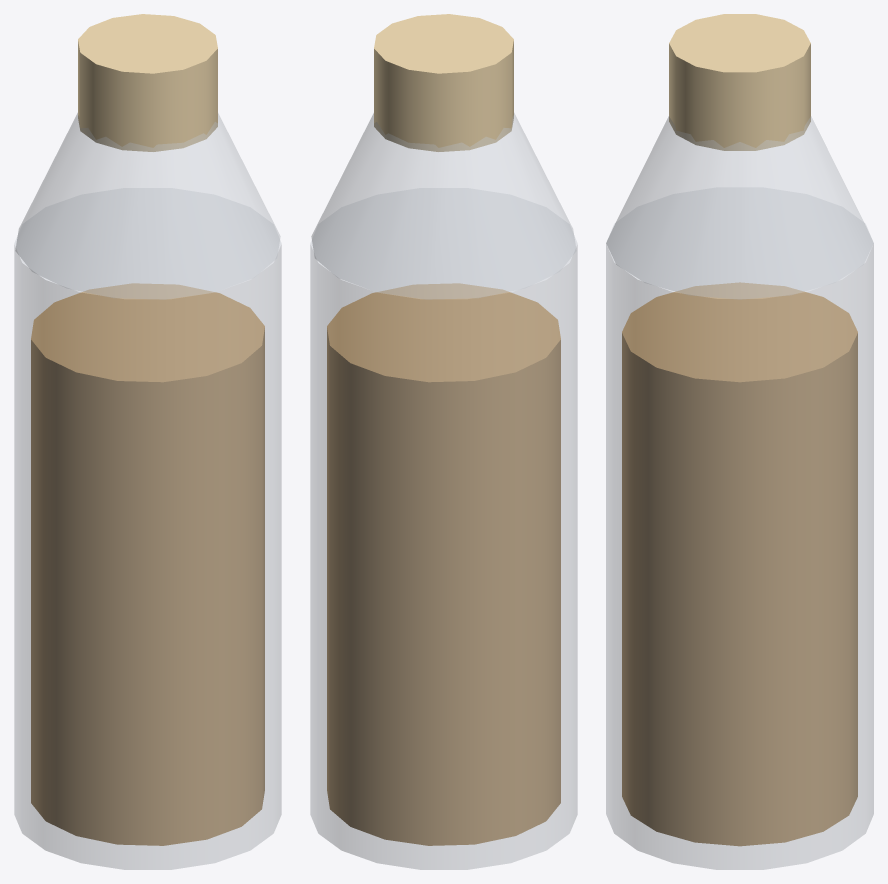
Rendered from ch5_prop_bottled_drink.glb.
3 renders of one model, left to right at view 1: azimuth 30°, elevation 25°; view 2: azimuth 150°, elevation 25°; view 3: azimuth 270°, elevation 25°, orthographic.
Parts seen in each view (by area): view 1: ch5_prop_bottled_drink; view 2: ch5_prop_bottled_drink; view 3: ch5_prop_bottled_drink.
Part boxes in pixels (x1,y1,x2,y2): ch5_prop_bottled_drink: (14, 14, 281, 869); ch5_prop_bottled_drink: (310, 14, 577, 869); ch5_prop_bottled_drink: (606, 14, 873, 869).
Bounding box in the file's own units: 0.068 × 0.216 × 0.068.
